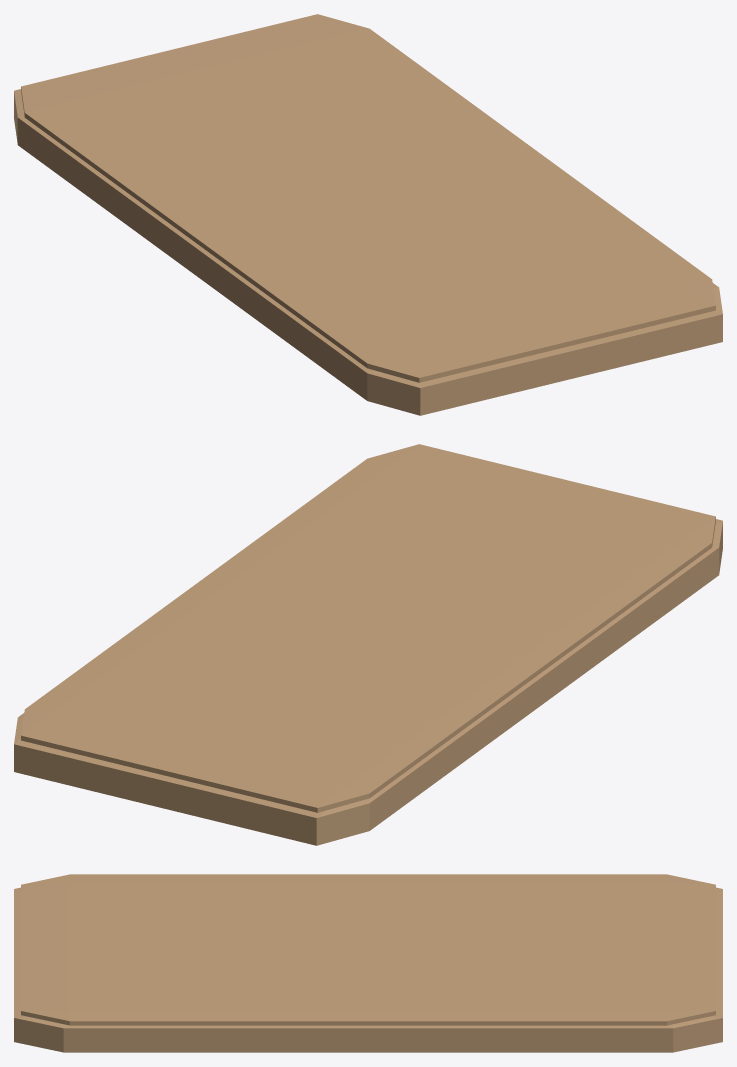
Rendered from b21_floor_timber_2x4m.glb.
3 views of the same model, one above another, from view 1: azimuth 30°, elevation 25°; view 2: azimuth 150°, elevation 25°; view 3: azimuth 270°, elevation 25° (orthographic). The views are drawn at different scales.
Visible parts, largest first — view 1: b21_floor_timber_2x4m; view 2: b21_floor_timber_2x4m; view 3: b21_floor_timber_2x4m.
Boxes of the visible parts, x1,y1,x2,y2 form: b21_floor_timber_2x4m: (14, 14, 722, 415); b21_floor_timber_2x4m: (14, 444, 722, 845); b21_floor_timber_2x4m: (14, 874, 722, 1052).
Size of the model in its own units: 2 by 0.2 by 4.
